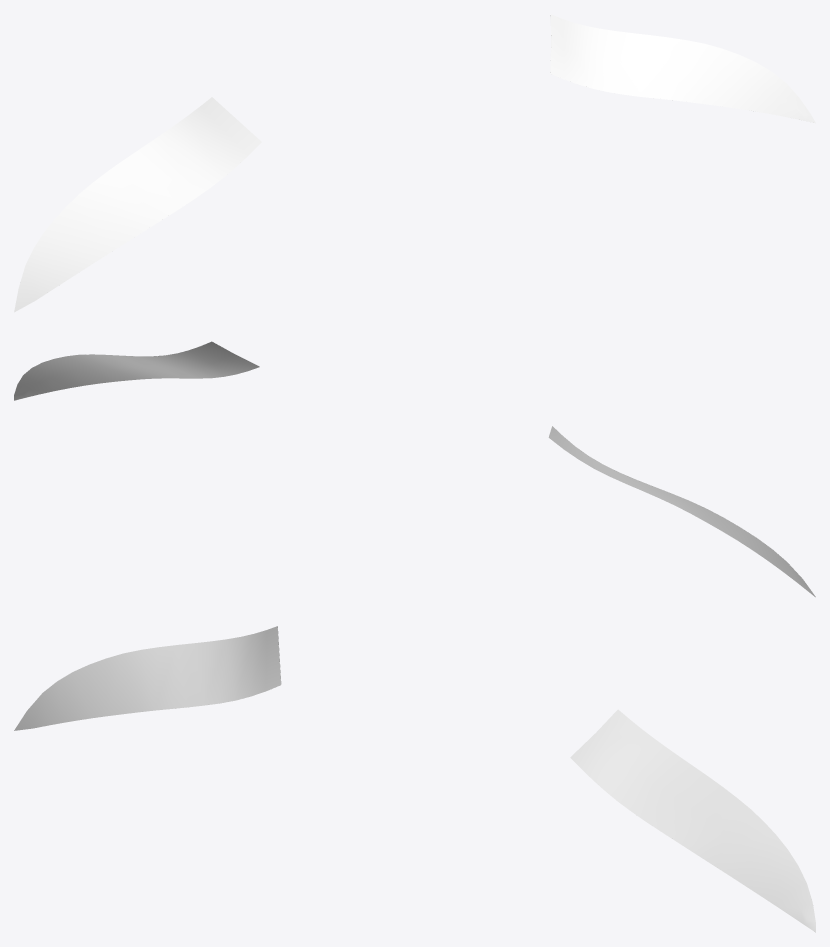
File: Jac_Flic_TOP_V2.glb
3 views of the same model, one above another, from view 1: azimuth 30°, elevation 25°; view 2: azimuth 150°, elevation 25°; view 3: azimuth 330°, elevation 25° (orthographic).
Visible parts, largest first — view 1: Jac_Flic_TOP_V1.001; view 2: Jac_Flic_TOP_V1.001; view 3: Jac_Flic_TOP_V1.001.
Boxes of the visible parts, <box> form: Jac_Flic_TOP_V1.001: <box>14,14,815,312</box>; Jac_Flic_TOP_V1.001: <box>14,341,815,597</box>; Jac_Flic_TOP_V1.001: <box>14,626,815,932</box>.
Bounding box in the file's own units: 0.6315 × 0.106 × 0.0518.
Materials: 1 (1 with a texture image).
